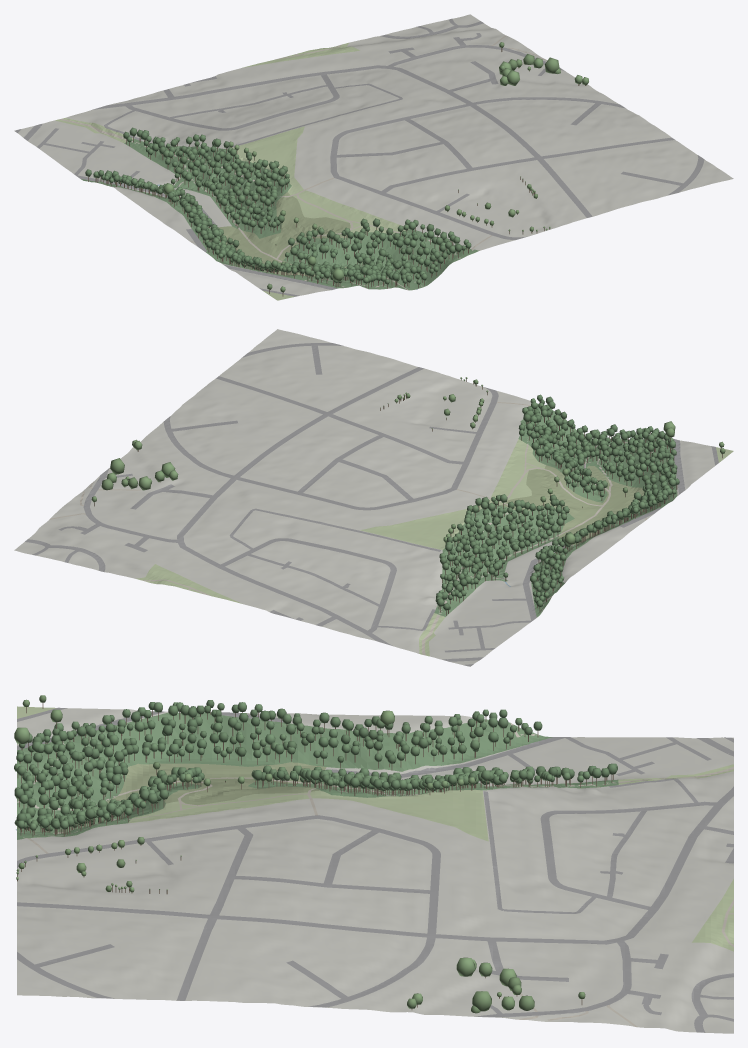
The picture shows the model from 3 angles, top to bottom: view 1: azimuth 30°, elevation 25°; view 2: azimuth 150°, elevation 25°; view 3: azimuth 270°, elevation 25°; orthographic projection. The views are drawn at different scales.
Parts seen in each view (by area): view 1: t15_07_terrain, t15_07_roads_minor, way/1527578202@t15_07_canopy, way/1527578201@t15_07_canopy, way/1527578202@t15_07, way/107081298@t15_07, way/1527578201@t15_07, way/1527578200@t15_07, t15_07_trees_mapped, t15_07_roads_path, way/86393238@t15_07; view 2: t15_07_terrain, t15_07_roads_minor, way/1527578202@t15_07_canopy, way/1527578201@t15_07_canopy, way/107081298@t15_07, way/1527578202@t15_07, way/1527578200@t15_07, way/1527578201@t15_07, t15_07_trees_mapped, t15_07_roads_path, way/86393238@t15_07; view 3: t15_07_terrain, way/1527578202@t15_07_canopy, t15_07_roads_minor, way/1527578202@t15_07, way/107081298@t15_07, way/1527578201@t15_07_canopy, way/1527578200@t15_07, t15_07_trees_mapped, way/1527578201@t15_07, t15_07_roads_path, way/86393238@t15_07.
Part boxes in pixels (box(x1,y1,x2,y2)): t15_07_terrain: box(14, 14, 733, 296); t15_07_roads_minor: box(15, 18, 704, 296); way/1527578202@t15_07_canopy: box(85, 169, 471, 288); way/1527578201@t15_07_canopy: box(123, 127, 289, 233); way/1527578202@t15_07: box(81, 179, 479, 290); way/107081298@t15_07: box(55, 118, 441, 290); way/1527578201@t15_07: box(124, 139, 291, 238); way/1527578200@t15_07: box(218, 192, 350, 276); t15_07_trees_mapped: box(163, 42, 588, 296); t15_07_roads_path: box(59, 35, 547, 290); way/86393238@t15_07: box(242, 42, 359, 67); t15_07_terrain: box(14, 329, 715, 666); t15_07_roads_minor: box(25, 343, 718, 666); way/1527578202@t15_07_canopy: box(518, 394, 679, 611); way/1527578201@t15_07_canopy: box(435, 494, 569, 615); way/107081298@t15_07: box(360, 439, 674, 656); way/1527578202@t15_07: box(518, 403, 677, 617); way/1527578200@t15_07: box(501, 465, 644, 544); way/1527578201@t15_07: box(434, 505, 574, 616); t15_07_trees_mapped: box(91, 377, 725, 551); t15_07_roads_path: box(49, 402, 664, 655); way/86393238@t15_07: box(136, 564, 242, 603); t15_07_terrain: box(17, 708, 733, 1033); way/1527578202@t15_07_canopy: box(14, 700, 542, 836); t15_07_roads_minor: box(17, 707, 733, 1032); way/1527578202@t15_07: box(17, 712, 552, 839); way/107081298@t15_07: box(33, 752, 733, 841); way/1527578201@t15_07_canopy: box(251, 763, 617, 796); way/1527578200@t15_07: box(98, 762, 326, 812); t15_07_trees_mapped: box(14, 695, 585, 1013); way/1527578201@t15_07: box(248, 779, 618, 797); t15_07_roads_path: box(17, 714, 733, 1026); way/86393238@t15_07: box(692, 879, 733, 951).
Size of the model in its own units: 501 by 48.43 by 502.
